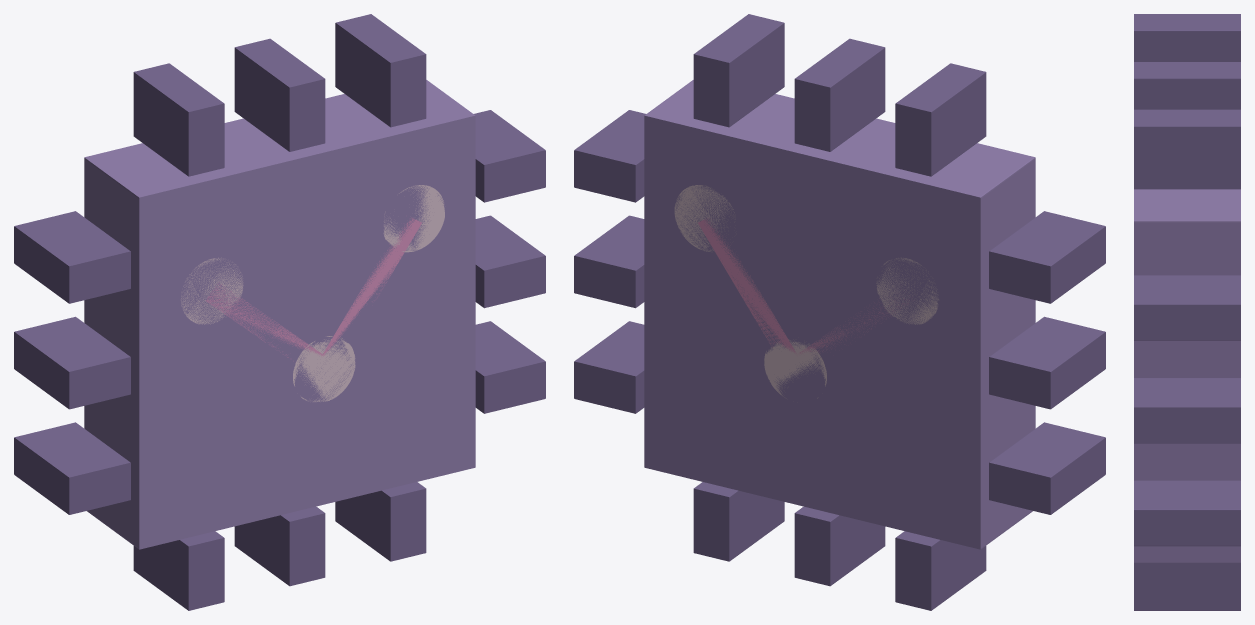
The model's file is machine-learning-transformed.glb.
3 renders of one model, left to right at view 1: azimuth 30°, elevation 25°; view 2: azimuth 150°, elevation 25°; view 3: azimuth 270°, elevation 25°, orthographic. The views are drawn at different scales.
Parts seen in each view (by area): view 1: geometry_0, geometry_1, geometry_3, geometry_2; view 2: geometry_0, geometry_1, geometry_3, geometry_2; view 3: geometry_1, geometry_0.
Boxes of the visible parts, x1=… form: geometry_0: x1=84, y1=80, x2=475, y2=549; geometry_1: x1=14, y1=14, x2=545, y2=610; geometry_3: x1=181, y1=185, x2=444, y2=401; geometry_2: x1=205, y1=217, x2=421, y2=361; geometry_0: x1=644, y1=80, x2=1035, y2=549; geometry_1: x1=574, y1=14, x2=1105, y2=610; geometry_3: x1=674, y1=185, x2=938, y2=398; geometry_2: x1=698, y1=218, x2=913, y2=354; geometry_1: x1=1134, y1=14, x2=1240, y2=610; geometry_0: x1=1134, y1=189, x2=1240, y2=562.
Size of the model in its own units: 4.25 by 4.25 by 0.85.
